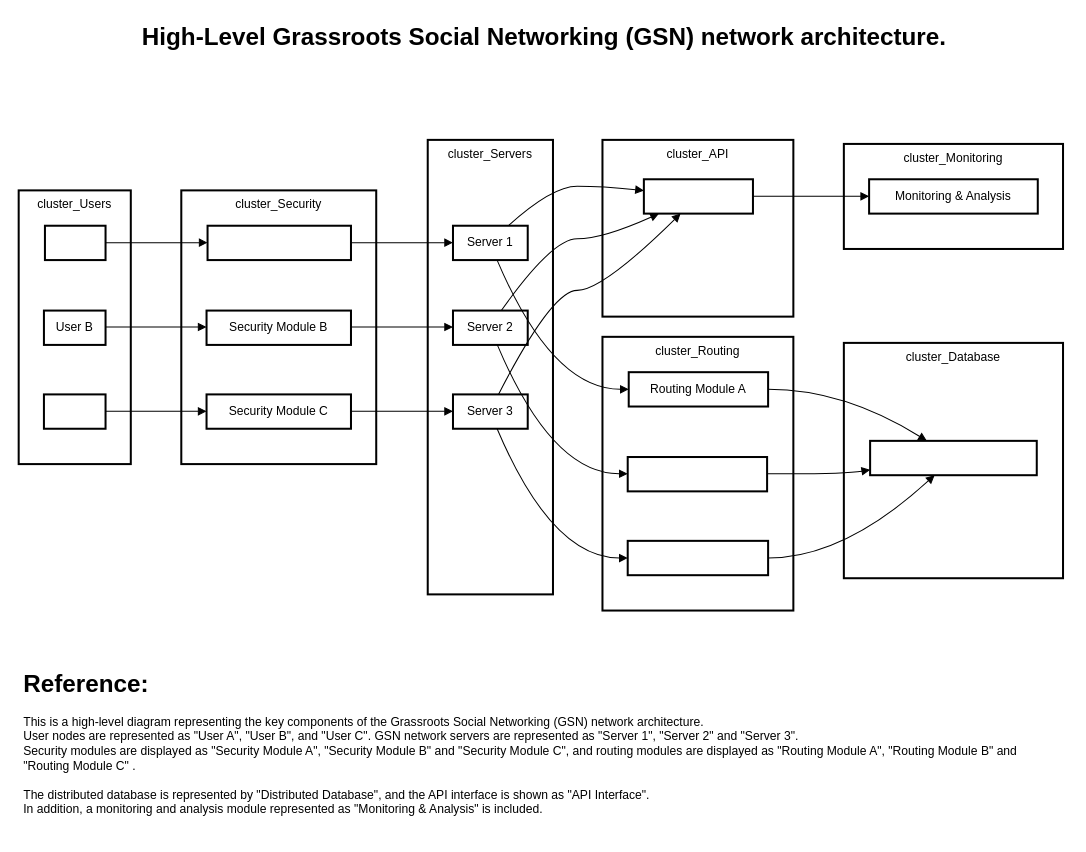
This 1086x852 diagram has some shape labels left out. The shapes that lost their labels are listed below. From the top down, each one's centre as x and y in pixels, then its label:
the point at 697,196: API Interface
the point at 74,242: User A
the point at 278,242: Security Module A
the point at 74,411: User C
the point at 697,474: Routing Module B
the point at 953,457: Distributed Database
the point at 697,557: Routing Module C
